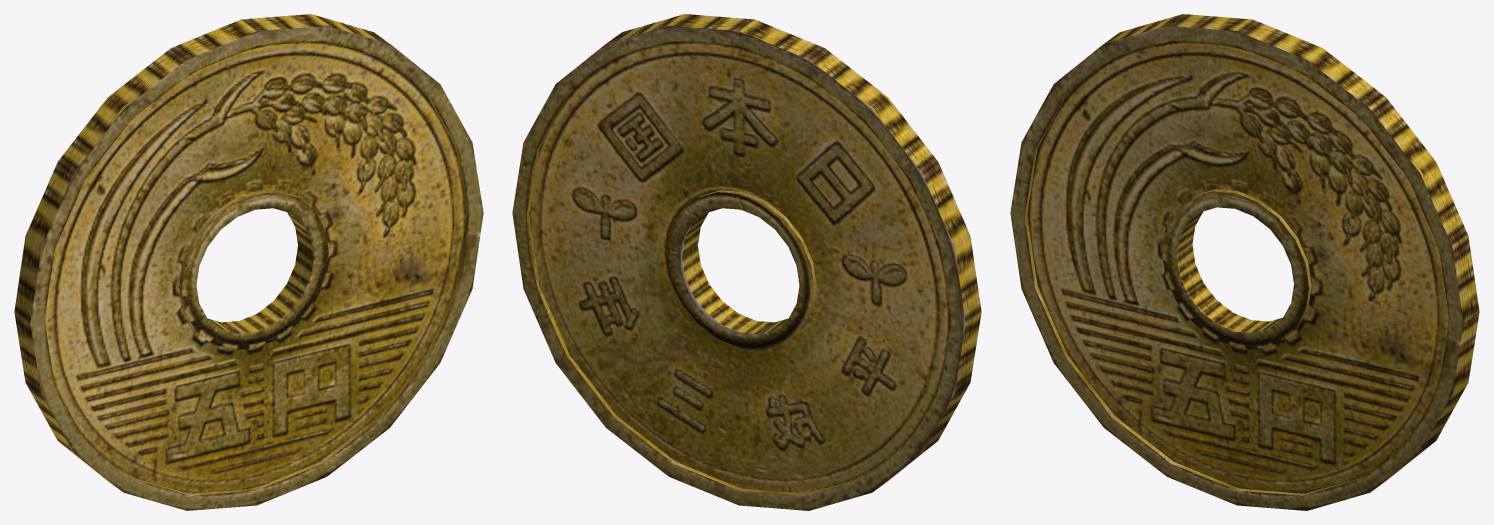
The model's file is Coin_Baked.fbx.
3 views of the same model, side by side, from view 1: azimuth 30°, elevation 25°; view 2: azimuth 150°, elevation 25°; view 3: azimuth 330°, elevation 25° (orthographic).
Parts seen in each view (by area): view 1: 5yen 2.001, 5yen 1.001, 5yen 3.001, 5yen 4.001; view 2: 5yen 2.001, 5yen 1.001, 5yen 3.001, 5yen 4.001; view 3: 5yen 2.001, 5yen 1.001, 5yen 3.001, 5yen 4.001.
Part boxes in pixels (x1,y1,x2,y2): 5yen 2.001: (30,25,483,510); 5yen 1.001: (14,14,389,490); 5yen 3.001: (208,212,313,333); 5yen 4.001: (130,59,469,495); 5yen 2.001: (512,25,965,510); 5yen 1.001: (606,14,981,490); 5yen 3.001: (682,212,787,333); 5yen 4.001: (526,59,865,495); 5yen 2.001: (1010,25,1463,510); 5yen 1.001: (1104,14,1479,490); 5yen 3.001: (1176,211,1282,333); 5yen 4.001: (1024,59,1363,495).
Bounding box in the file's own units: 0.3859 × 0.3859 × 0.0235.
Materials: 1 (1 with a texture image).
